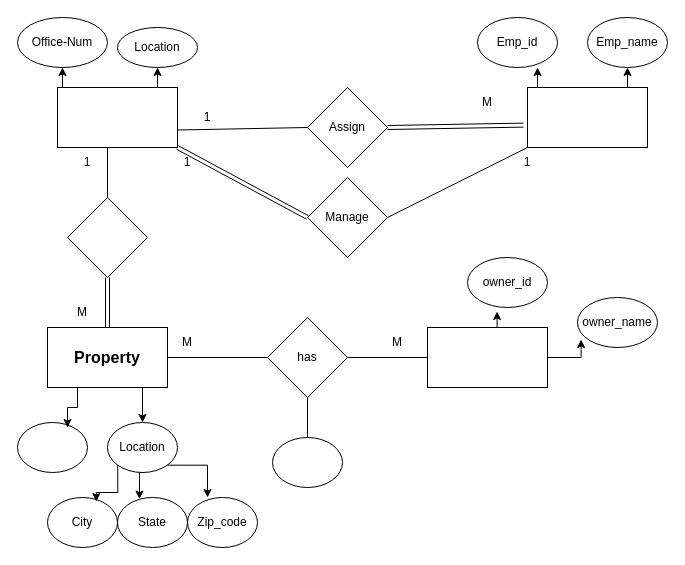
Some shapes in this 685 by 565 pixel diagram are drawn without their labels. The shapes that lost their labels are listed below. From the top down, each one's centre as x and y in pixels, then its label:
At (117,117): "Sales office".
At (587,117): "Employee".
At (107,237): "list".
At (487,357): "Owner".
At (52,447): "Prop_id".
At (307,462): "precent".
